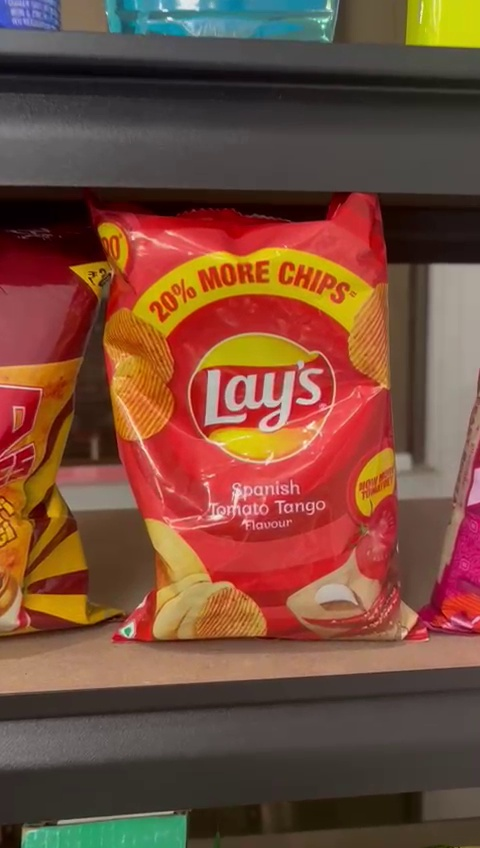Lays: (94, 205, 404, 638)
